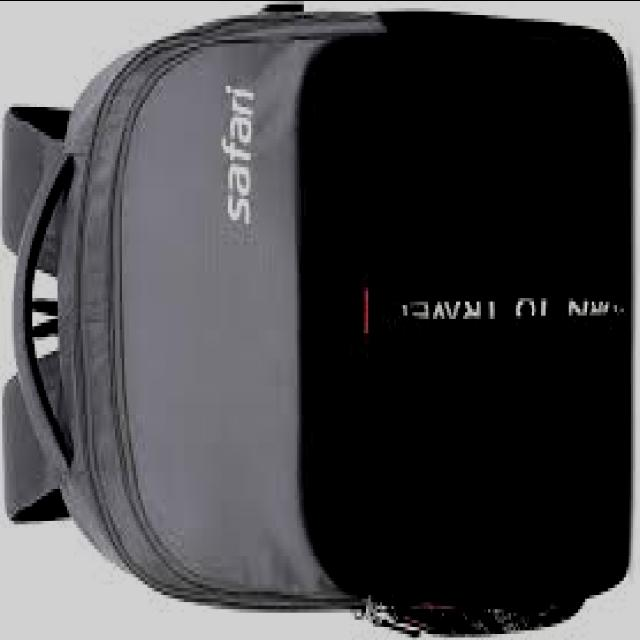backpack: (1, 5, 632, 640)
